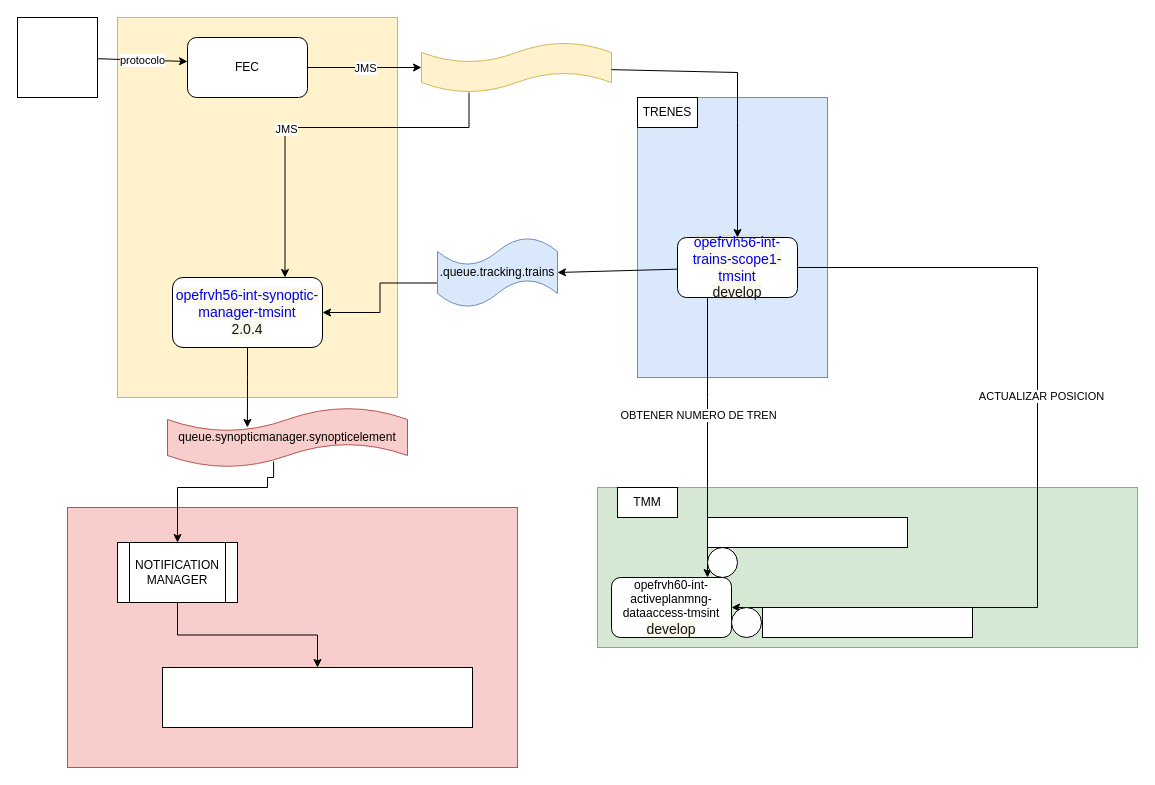
The diagram is 1155 pixels wide and 785 high, and some of its shapes have lost their labels. The shapes that lost their labels are listed below. From the top down, each one's box as (x1, y1, x2, y2) in pixels, then its label:
(16, 16, 98, 98): pdsTest escenario
(420, 42, 612, 92): .queue.fecsimence.fieldstatus
(706, 516, 908, 548): /api/activeplanmng/circulation/create
(762, 606, 972, 638): /api/activeplanmng/circulation/position
(162, 666, 472, 728): Synoptic FRONT
